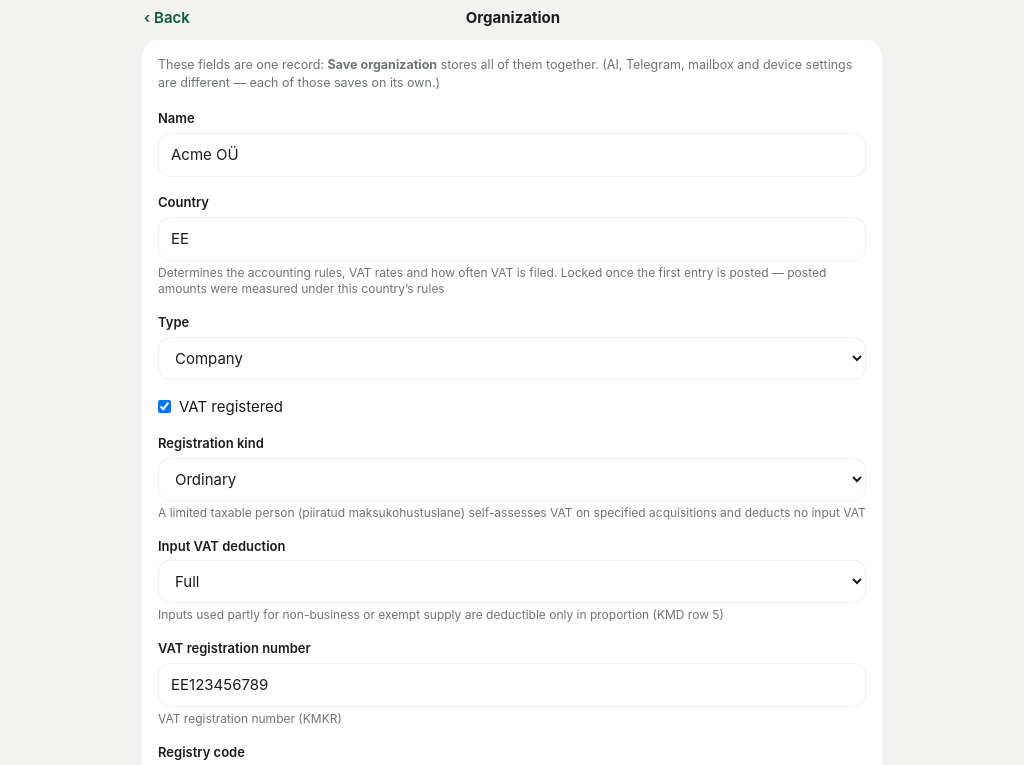
Test: OrganizationScreen › save status (whole-form scope) › the normalized response becomes the baseline; a failed reload after it is qualified
The width and height of the screenshot is (1024, 765).
Replace the text in the field labelled "Name" with "acme oü" at {"x": 512, "y": 155}, box [158,132,866,177]
(page scrolled)
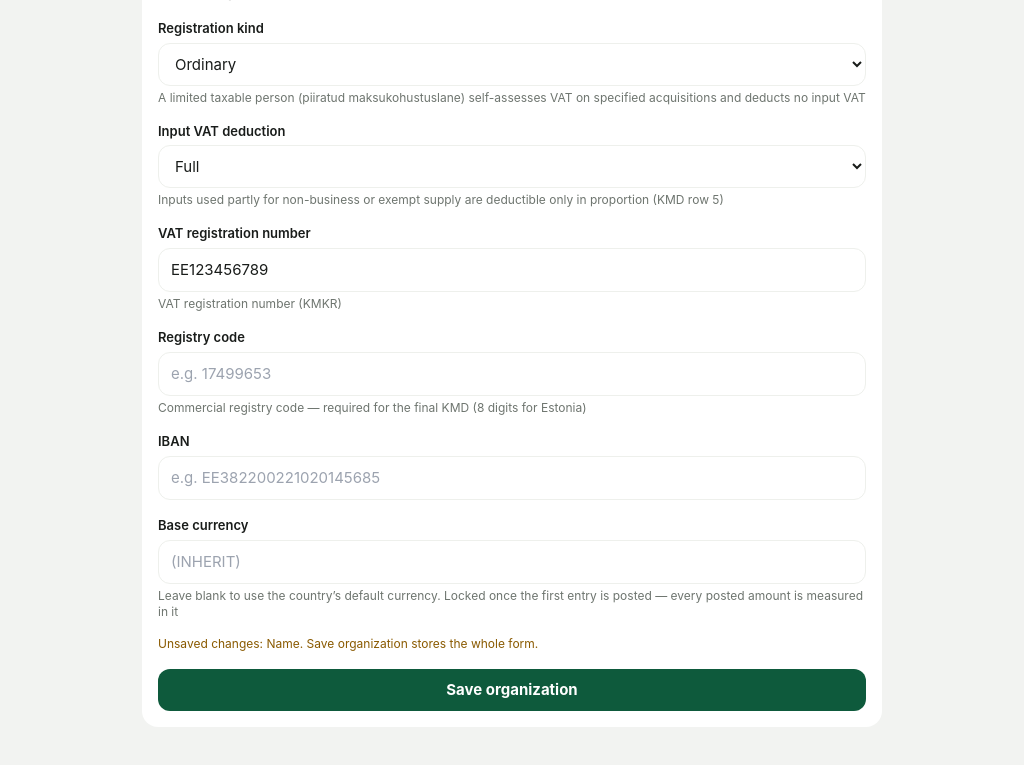
Type "ee38 2200 2210 2014 5685" into the field labelled "IBAN" at {"x": 512, "y": 478}, box [158,456,866,500]
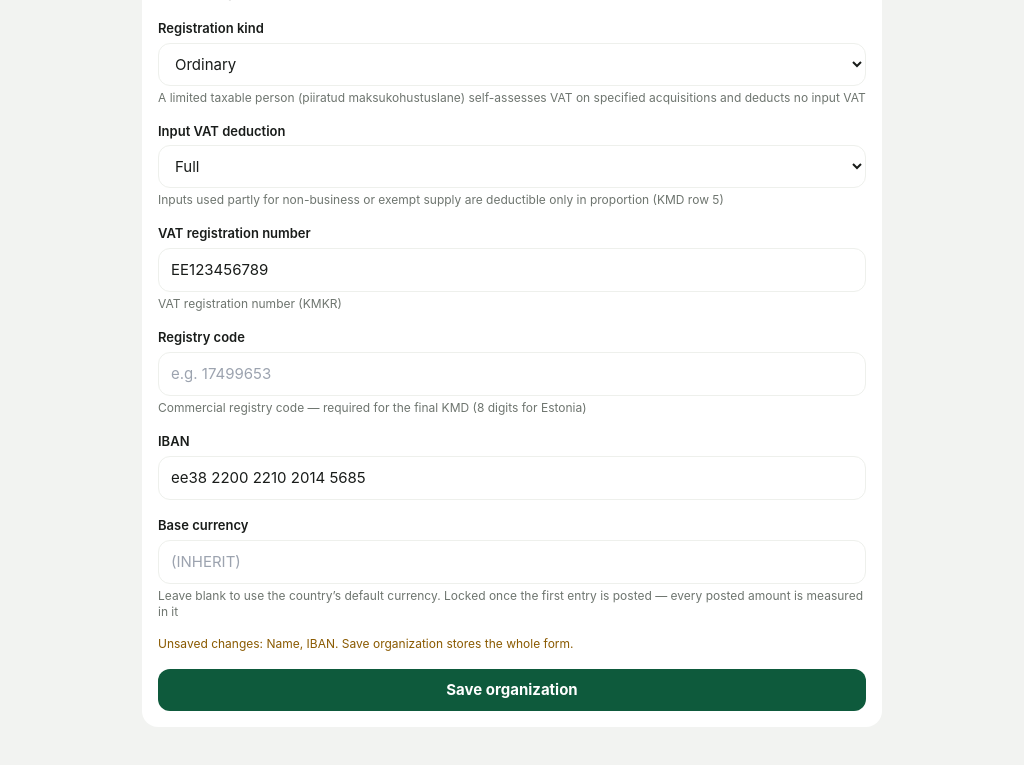
Click the button "Save organization" at {"x": 512, "y": 690}, box [158,668,866,711]
(page scrolled)
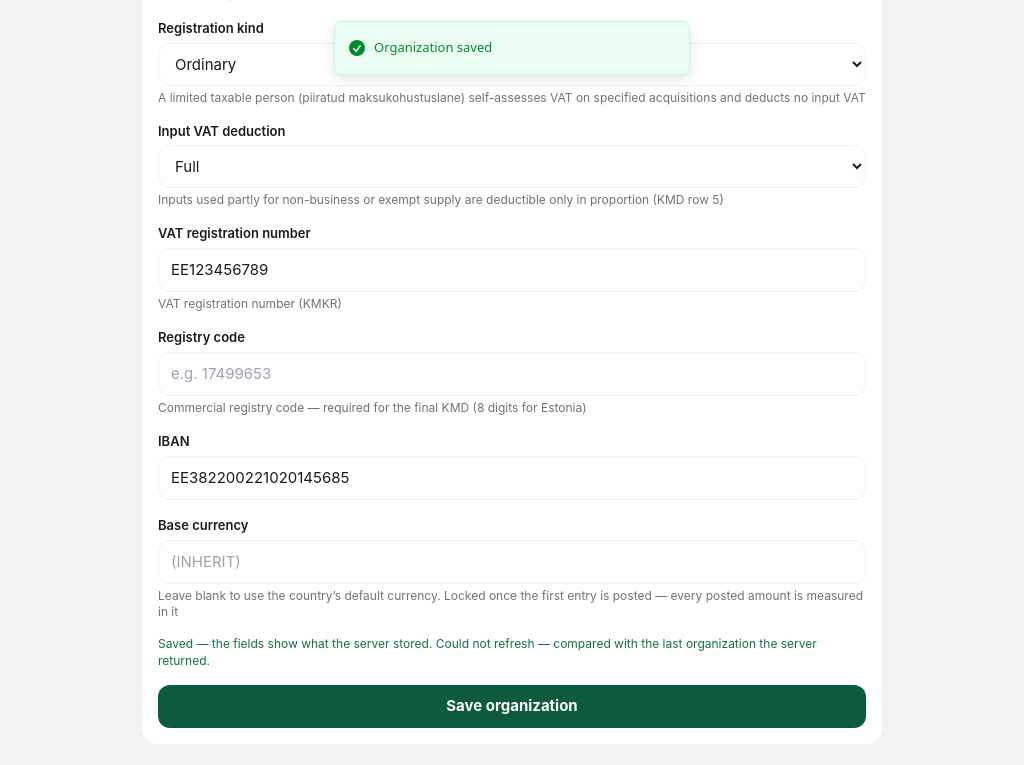
Check: the field labelled "IBAN" holds "EE382200221020145685", box [158,456,866,500]
